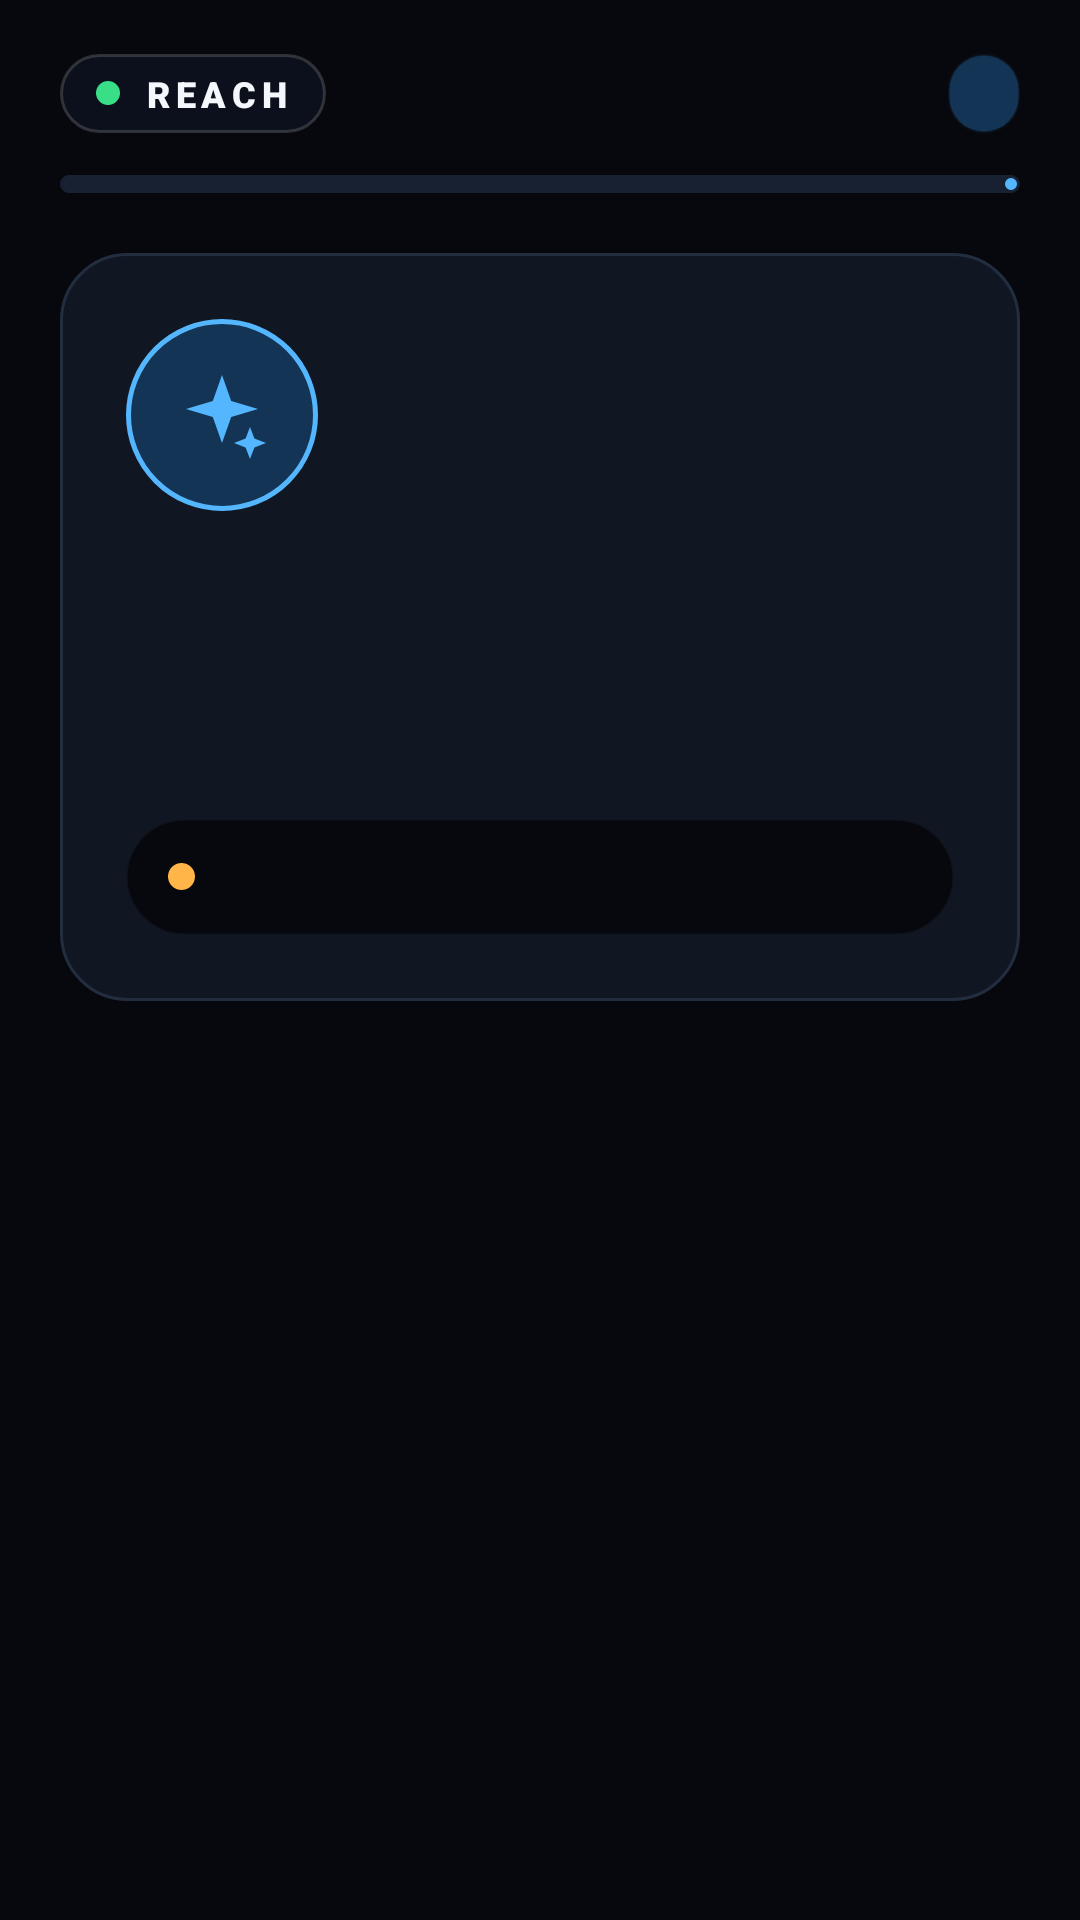

Screen size 1080*1920. Icon name, then its box in pixels as {"left": x1, "top": y1, "right": x2, "bottom": y2}:
Setup step illustration: {"left": 187, "top": 375, "right": 266, "bottom": 459}
